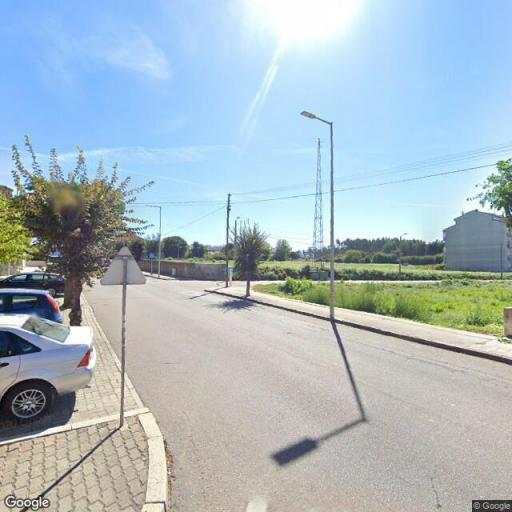ss_4: (310, 135, 326, 252)
